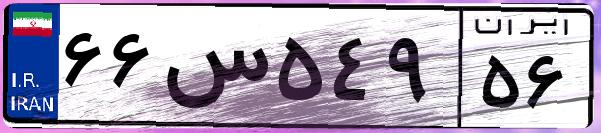4: (330, 28, 385, 110)
5: (270, 28, 330, 110), (475, 38, 525, 113)
6: (57, 26, 110, 100), (525, 38, 570, 115), (110, 28, 158, 98)
9: (385, 28, 445, 110)
س: (158, 20, 270, 120)
